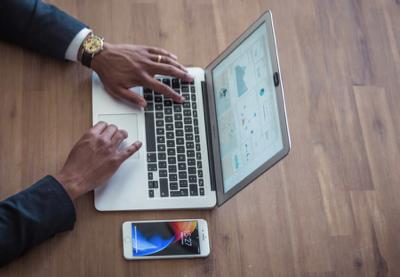Mobile Phone: (120, 217, 211, 260)
